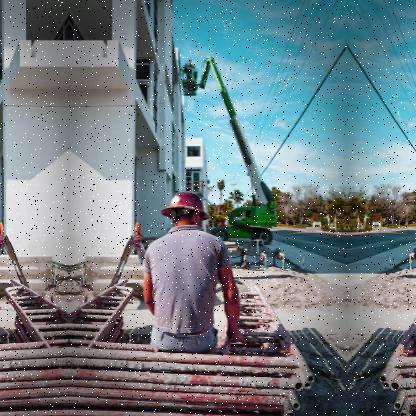Helmet: (158, 193, 208, 234)
